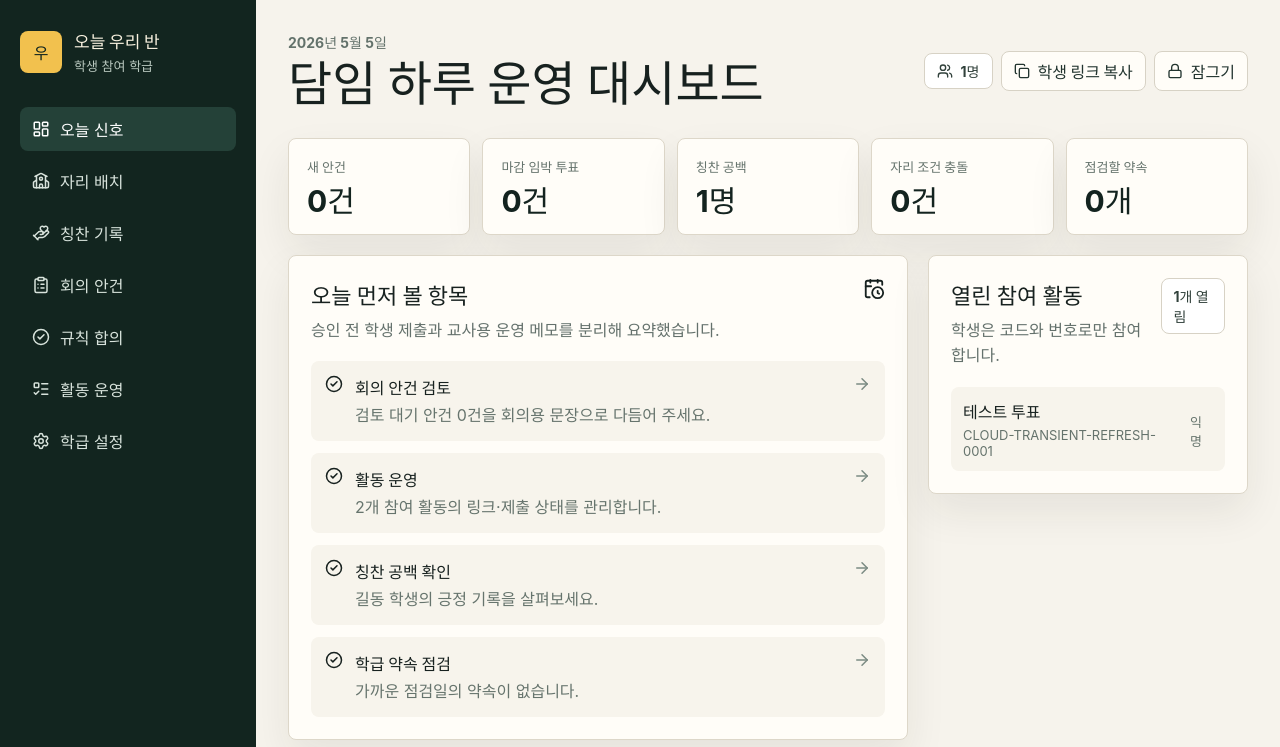
Test: homeroom app workflows › keeps teacher session visible when token refresh fails transiently and shows retry-ready warning
The image size is (1280, 747).
Click the button "활동 운영".
click(128, 389)  # box x1=20 y1=367 x2=236 y2=411
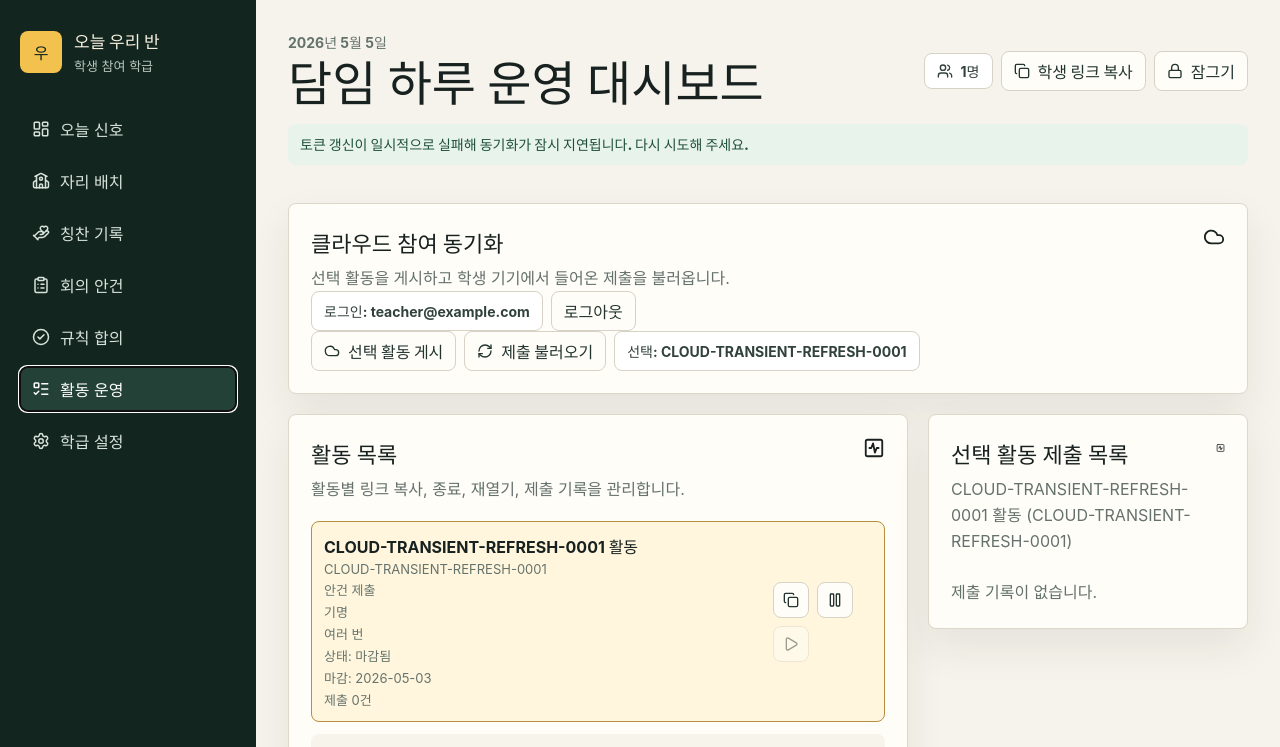
Check: the button "로그아웃" is shown, box x1=551 y1=291 x2=636 y2=331
Check: the text "로그인: teacher@example.com" is shown, box x1=311 y1=291 x2=543 y2=331
Click the button "선택 활동 게시".
click(384, 351)  # box x1=311 y1=331 x2=456 y2=371
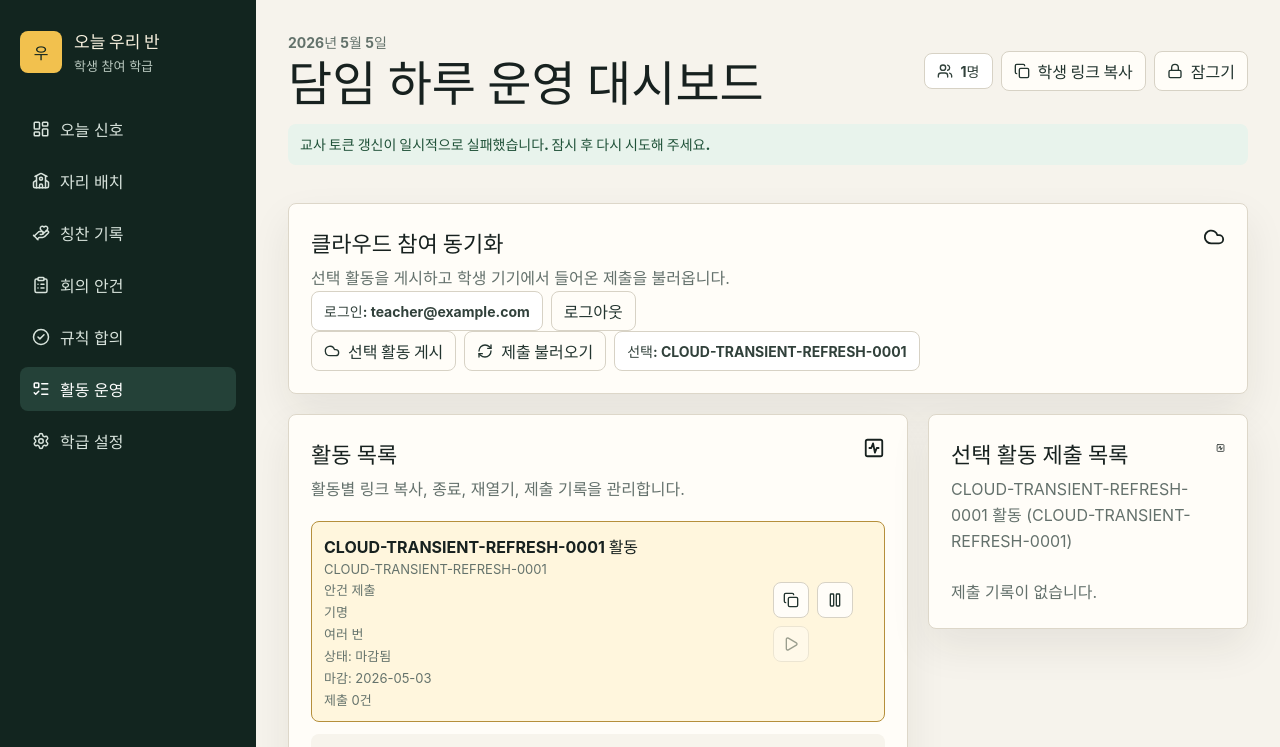
Check: the button "선택 활동 게시" is enabled, box x1=311 y1=331 x2=456 y2=371
Check: the message reads "교사 토큰 갱신이 일시적으로 실패했습니다. 잠시 후 다시 시도해 주세요.", box x1=300 y1=136 x2=710 y2=153
